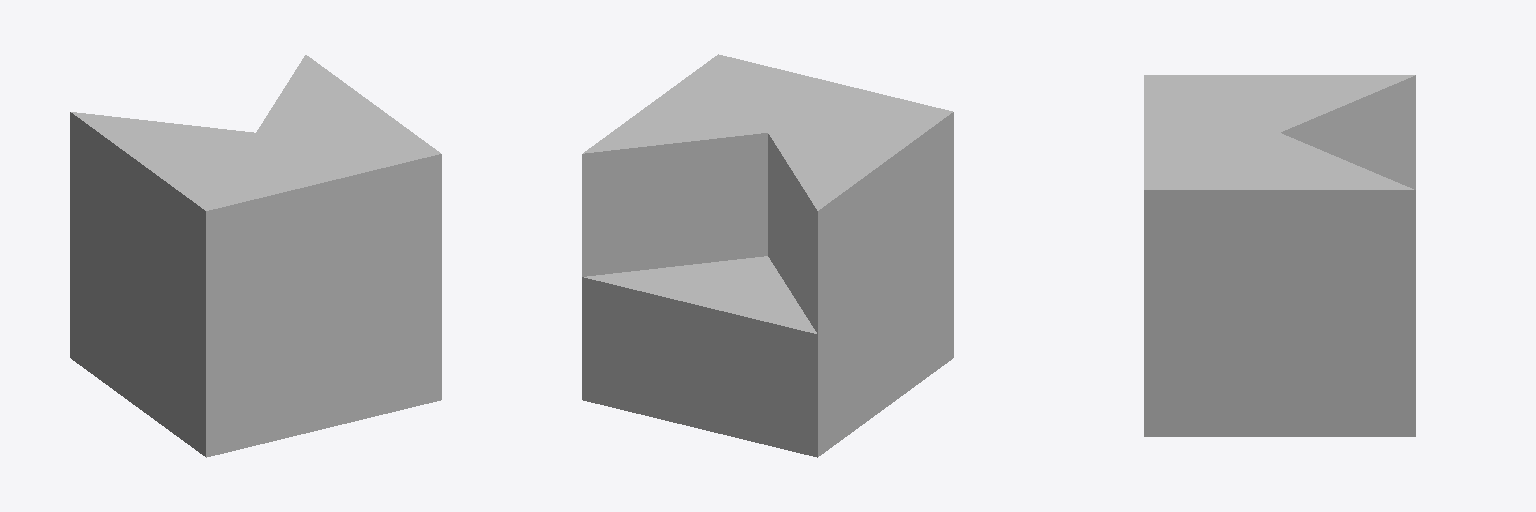
Rendered from diagstep_7.obj.
The picture shows the model from 3 angles: view 1: azimuth 30°, elevation 25°; view 2: azimuth 150°, elevation 25°; view 3: azimuth 270°, elevation 25°; orthographic projection.
Bounding box in the file's own units: 1 × 1 × 1.